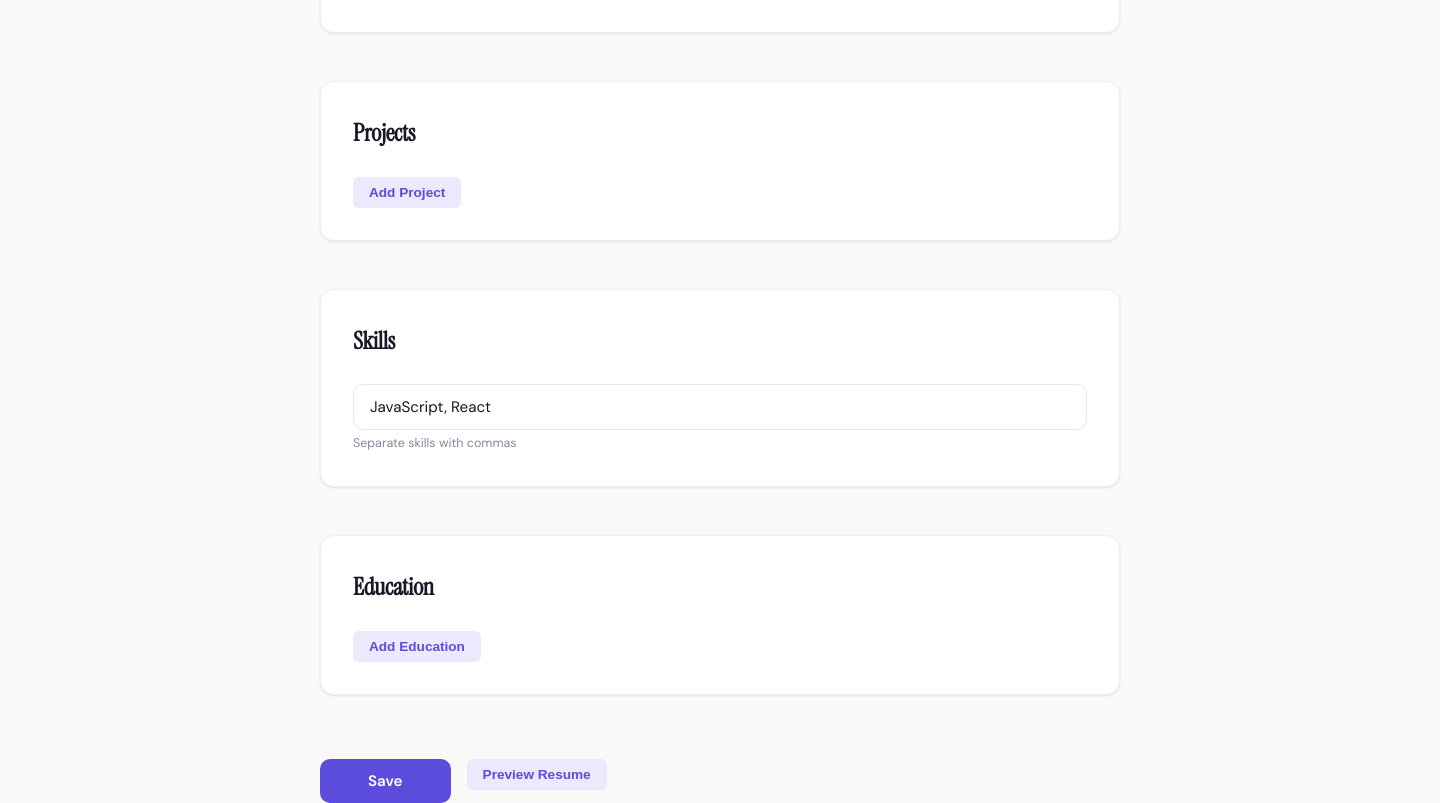
Resume › opens the Preview modal when "Preview Resume" is clicked
This screenshot has width=1440, height=803.
(page scrolled)
Expected: the text "Resume Preview" is not shown
Click the button "Preview Resume" at (537, 774), box [467, 759, 607, 790]
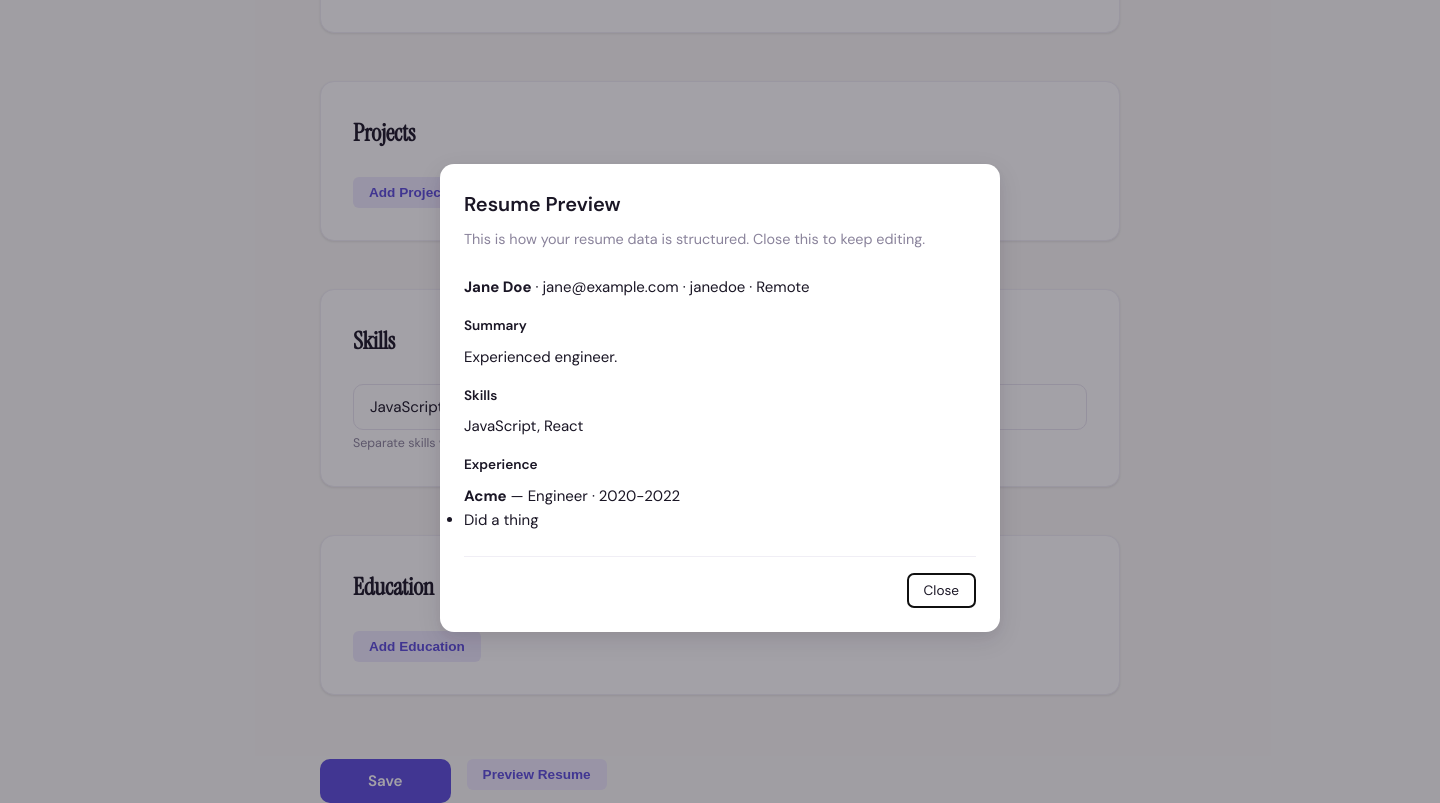
Expected: the heading "Resume Preview" is shown, [464, 191, 620, 217]
